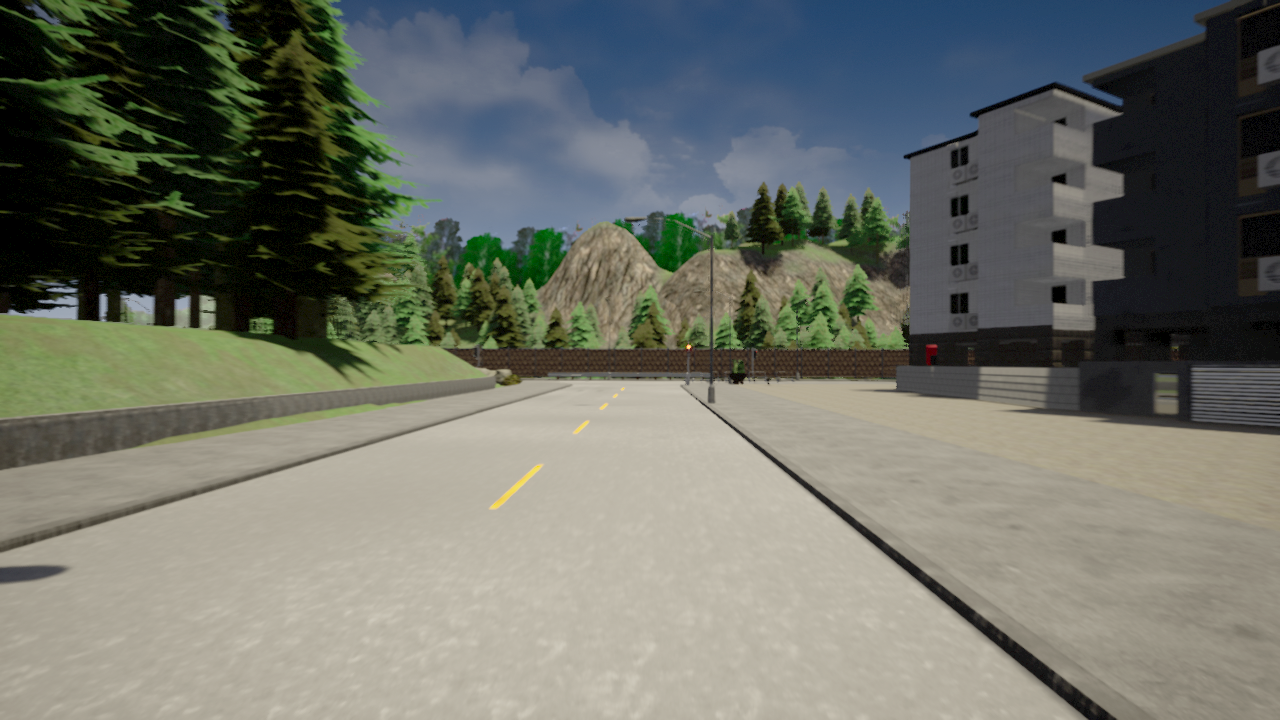red: (685, 343, 692, 358)
